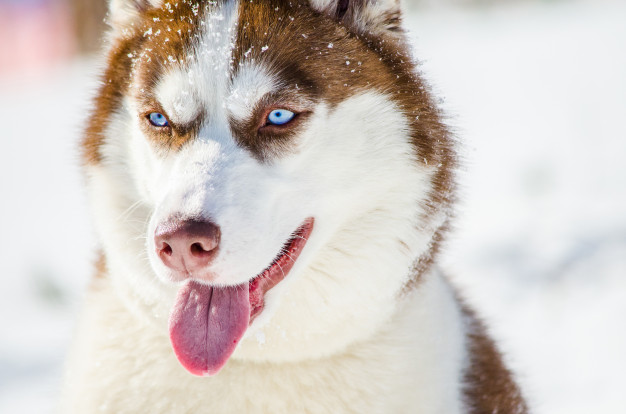husky: (72, 2, 454, 405)
